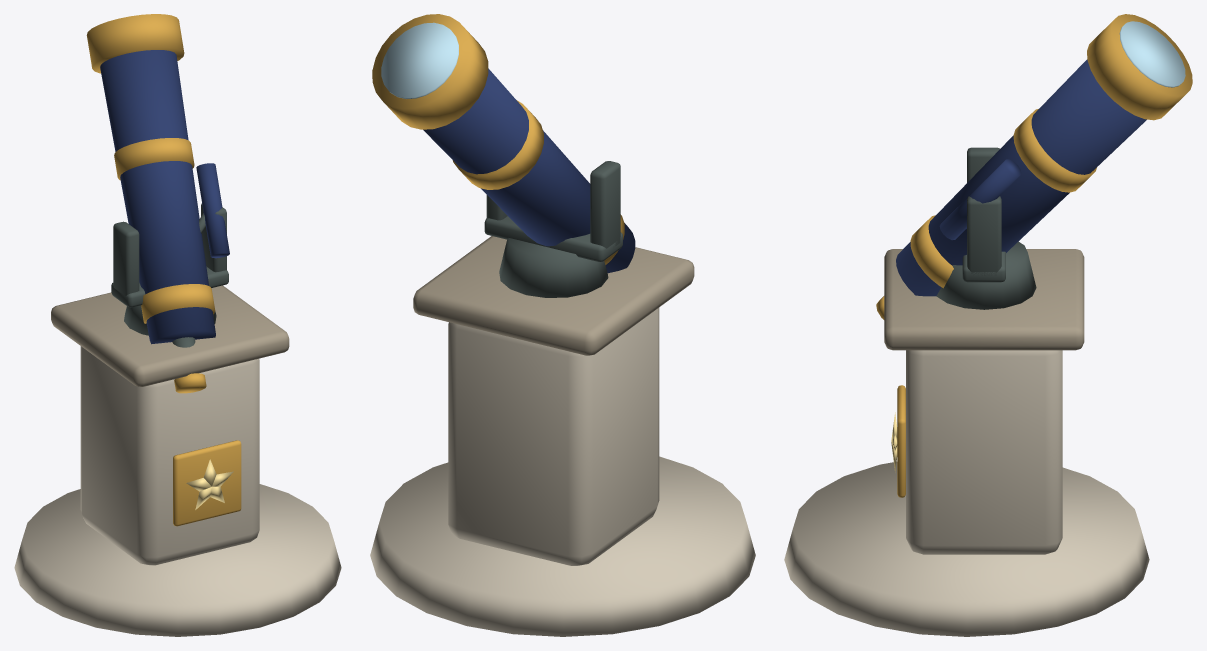
Rendered from telescope-stand.glb.
3 renders of one model, left to right at view 1: azimuth 30°, elevation 25°; view 2: azimuth 150°, elevation 25°; view 3: azimuth 270°, elevation 25°, orthographic. The views are drawn at different scales.
Visible parts, largest first — view 1: stand; view 2: stand; view 3: stand.
Boxes of the visible parts, x1=… form: stand: x1=14, y1=14, x2=341, y2=636; stand: x1=370, y1=14, x2=755, y2=636; stand: x1=784, y1=14, x2=1192, y2=636.
Bounding box in the file's own units: 0.84 × 1.41 × 0.9392.
